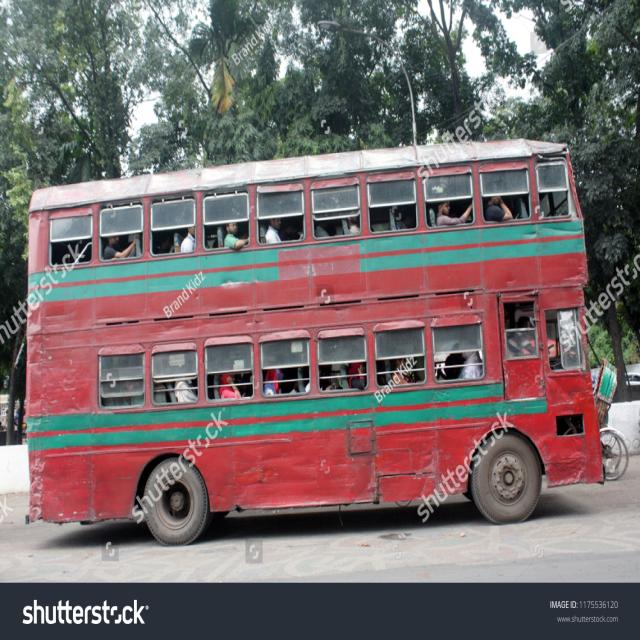Double decker: (27, 135, 603, 563)
